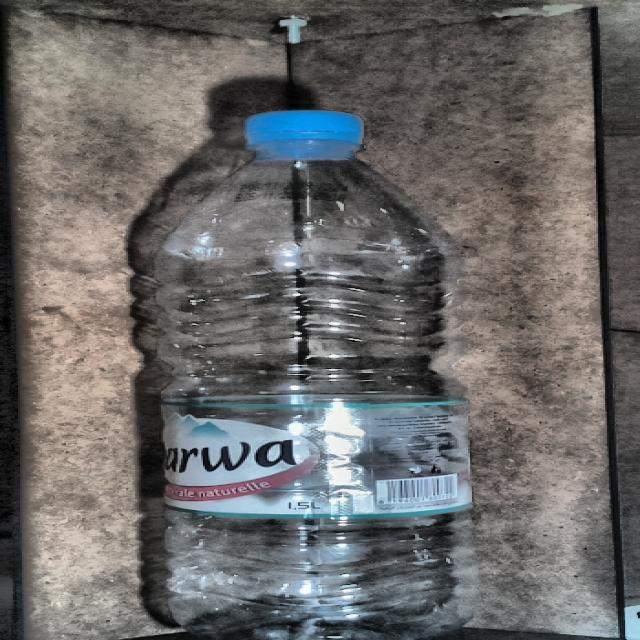plastic bottle: (155, 111, 475, 640)
